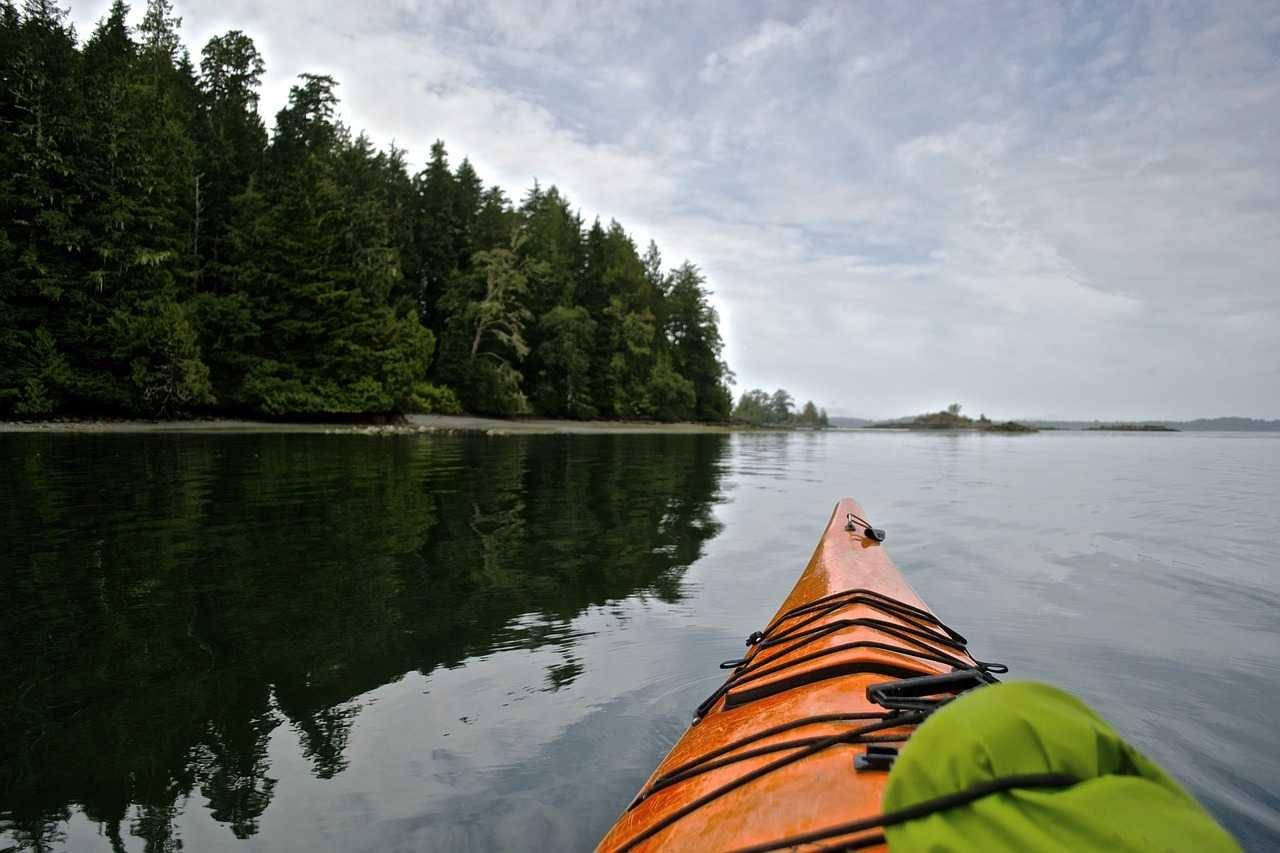kayak: (591, 494, 1247, 845), (881, 679, 1240, 847)
